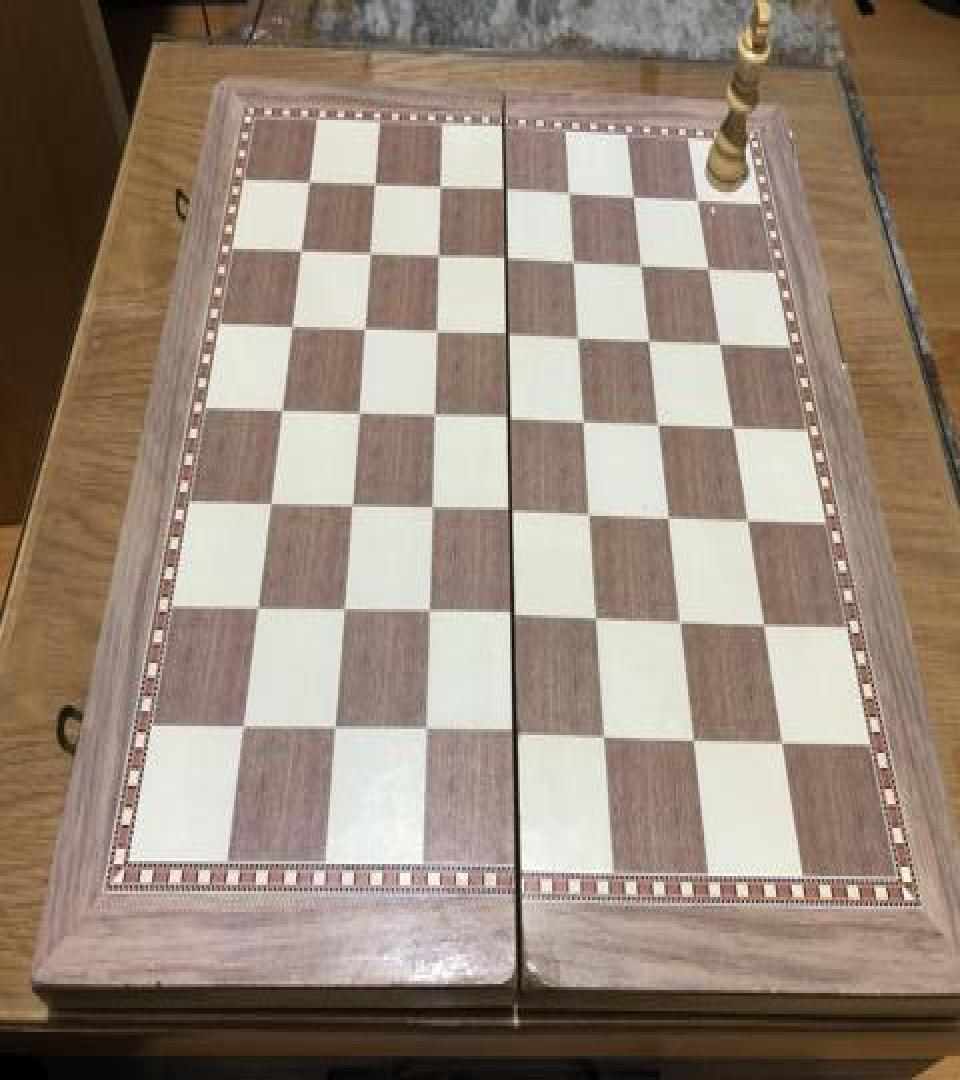xcorner: (585, 601, 609, 638), (504, 718, 528, 755), (682, 183, 706, 219), (619, 180, 643, 216), (556, 177, 580, 213), (493, 174, 517, 210), (429, 170, 453, 206), (364, 166, 388, 202), (300, 164, 324, 200), (693, 250, 717, 286), (627, 248, 651, 284), (561, 244, 585, 280), (494, 242, 518, 278), (427, 238, 451, 274), (359, 236, 383, 272), (291, 232, 315, 268), (705, 326, 729, 362), (636, 322, 660, 358), (566, 320, 590, 356), (495, 316, 519, 352), (425, 314, 449, 350), (354, 310, 378, 346), (282, 308, 306, 344), (718, 410, 742, 446), (645, 406, 669, 442), (571, 404, 595, 440), (497, 400, 521, 436), (422, 398, 446, 434), (347, 394, 371, 430), (272, 392, 296, 428), (733, 502, 757, 538), (656, 500, 680, 536), (578, 496, 602, 532), (499, 494, 523, 530), (420, 490, 444, 526), (340, 488, 364, 524), (260, 484, 284, 520), (750, 608, 774, 644), (668, 604, 692, 640), (501, 600, 525, 636), (417, 597, 441, 633), (333, 594, 357, 630), (247, 591, 271, 627), (769, 726, 793, 762), (681, 723, 705, 759), (593, 722, 617, 758), (414, 716, 438, 752), (324, 714, 348, 750), (233, 711, 257, 747)
